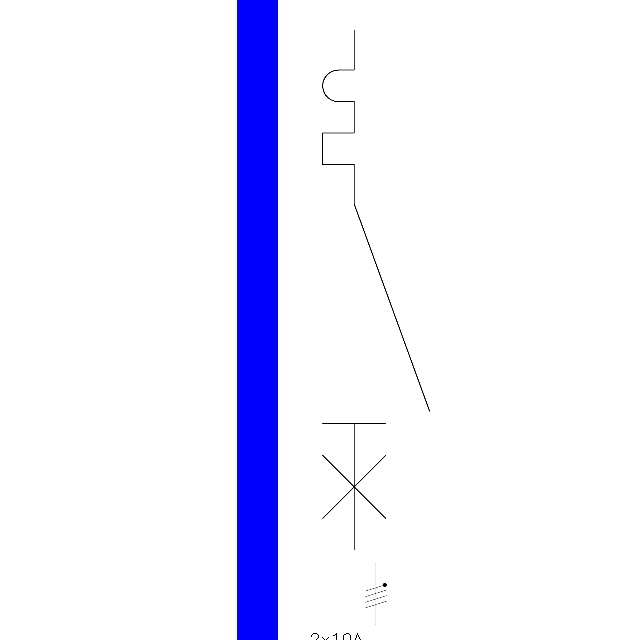interruptor_termomagnetico: (309, 17, 442, 563)
